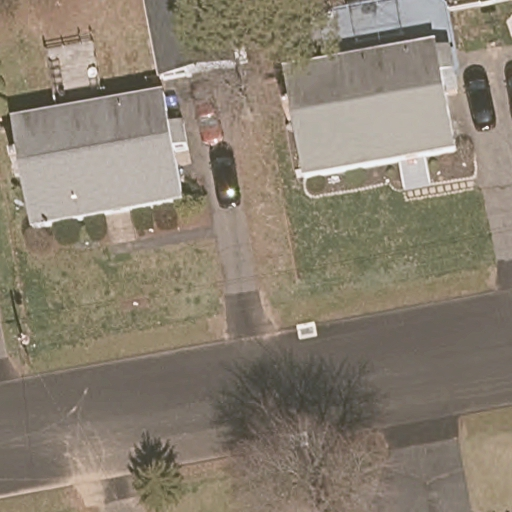DT: (16, 331, 37, 361)
